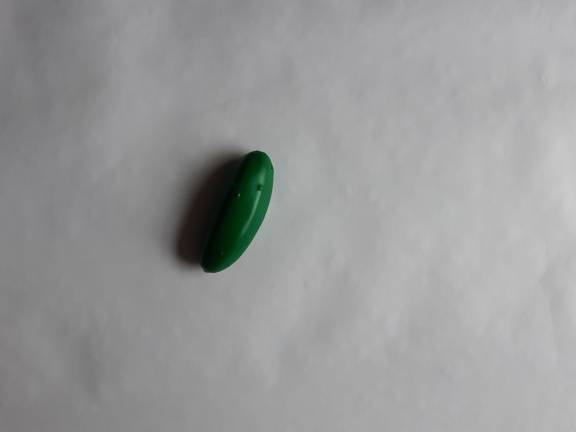cucumber: (192, 146, 283, 282)
